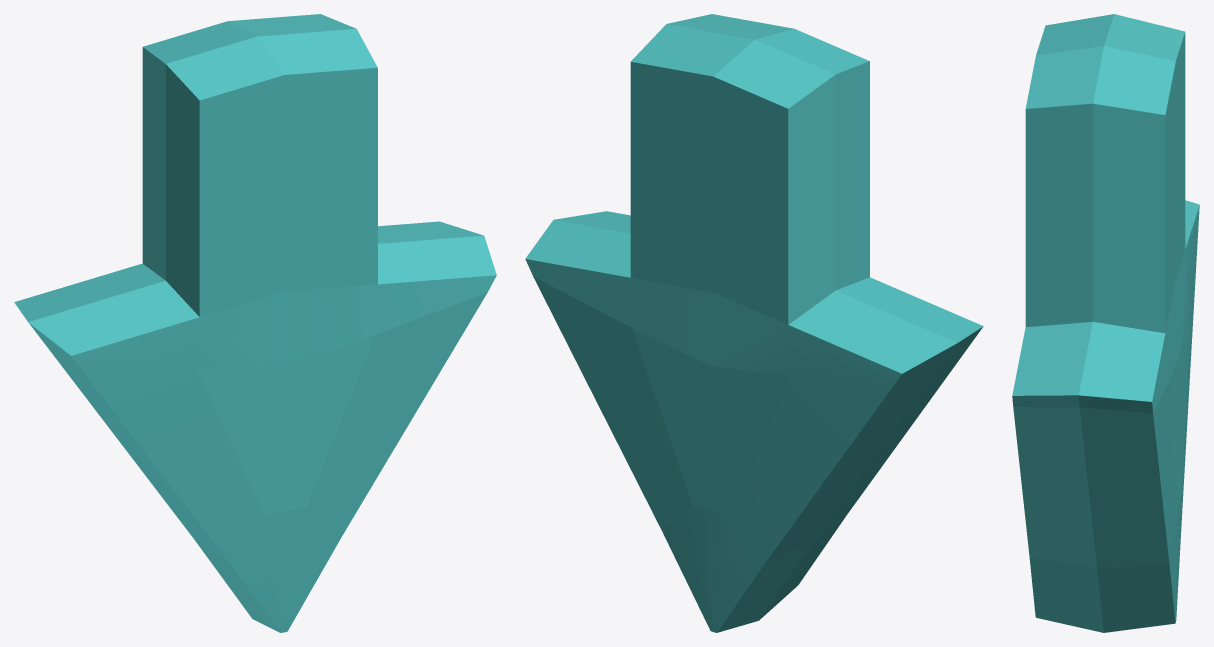
The model's file is arrow.fbx.
The picture shows the model from 3 angles, left to right: view 1: azimuth 30°, elevation 25°; view 2: azimuth 150°, elevation 25°; view 3: azimuth 270°, elevation 25°; orthographic projection.
Parts seen in each view (by area): view 1: pasted__HeadM; view 2: pasted__HeadM; view 3: pasted__HeadM.
Part boxes in pixels (x1,y1,x2,y2): pasted__HeadM: (14,14,496,632); pasted__HeadM: (525,14,983,632); pasted__HeadM: (1012,14,1199,632).
Bounding box in the file's own units: 0.1792 × 0.2313 × 0.0671.
